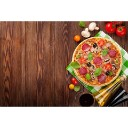pepperonipizza: (73, 38, 122, 86)
